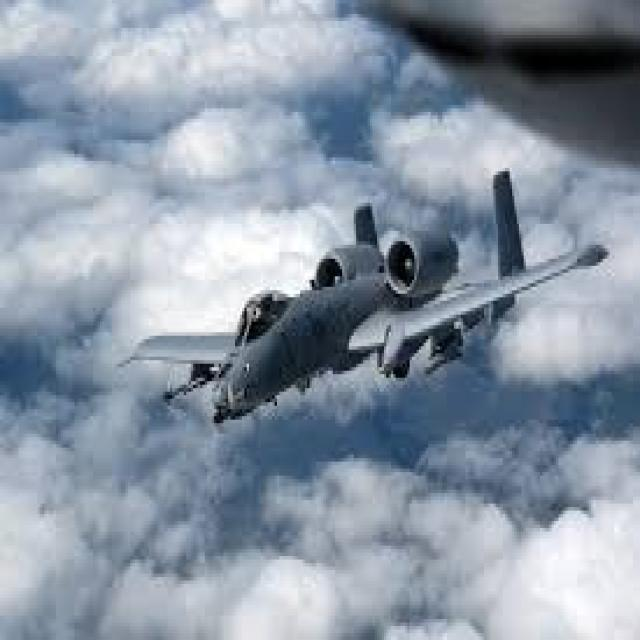A10: (123, 132, 625, 436)
